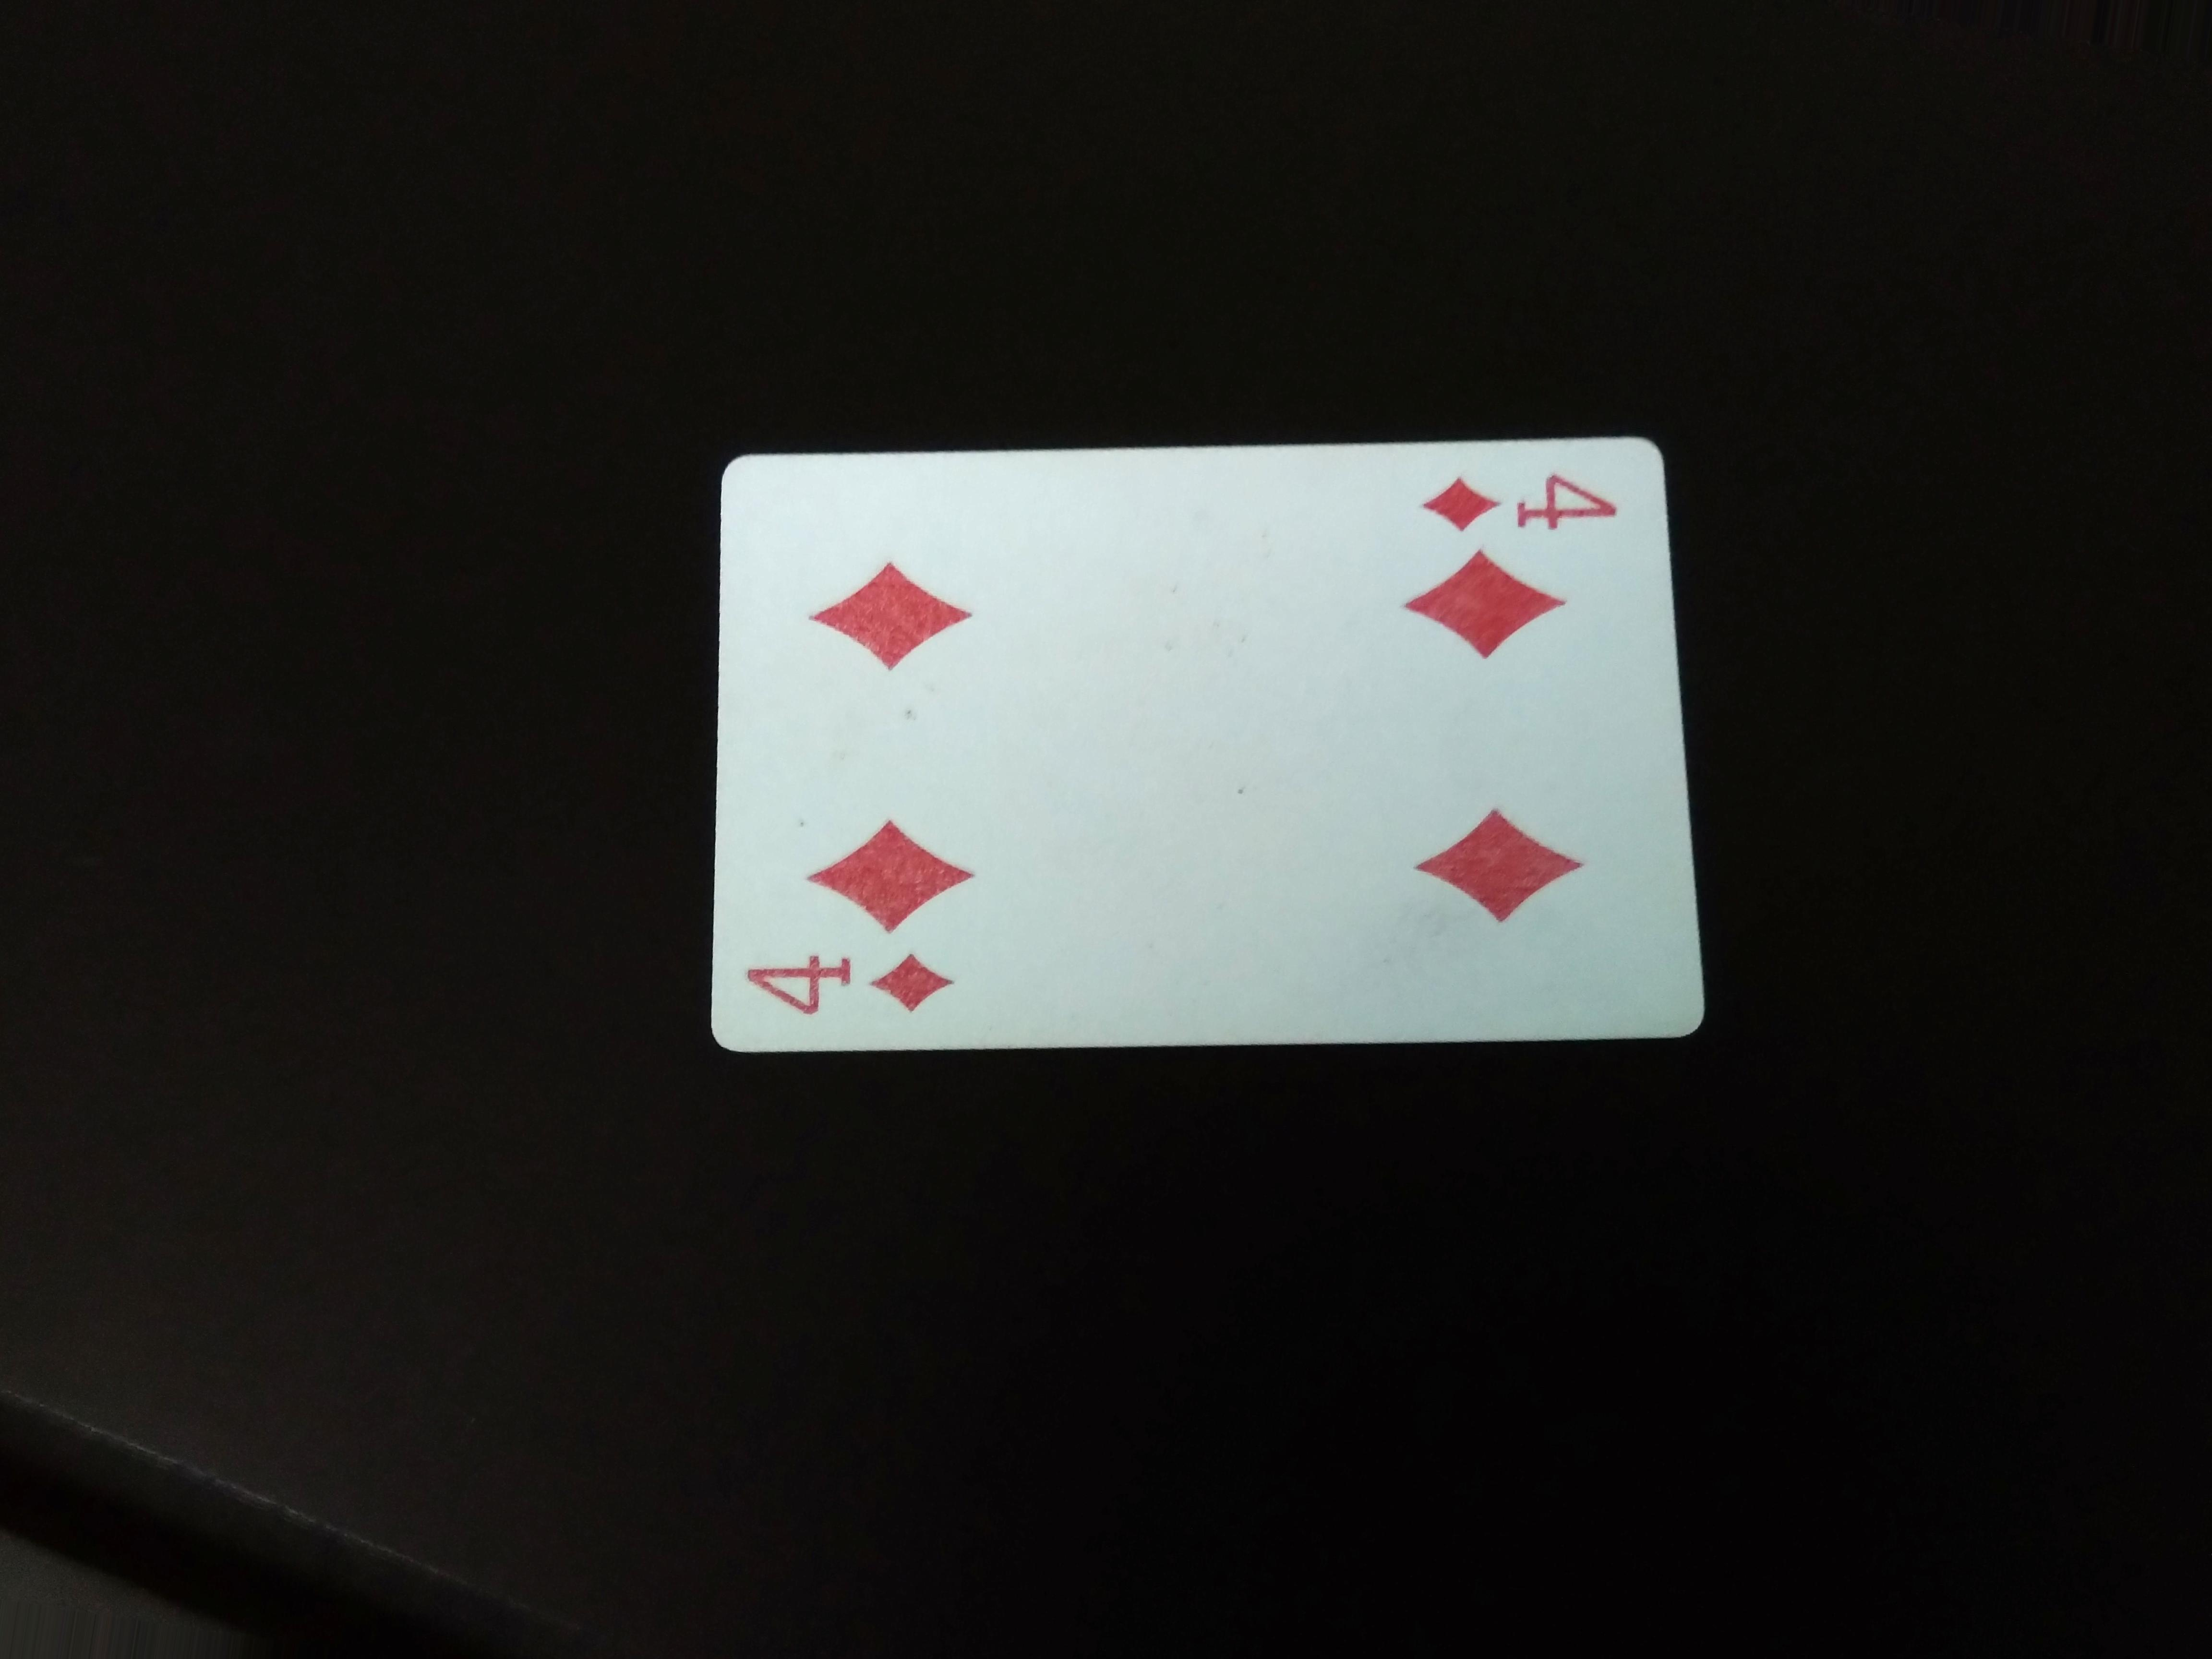4D: (1406, 455, 1632, 552)
